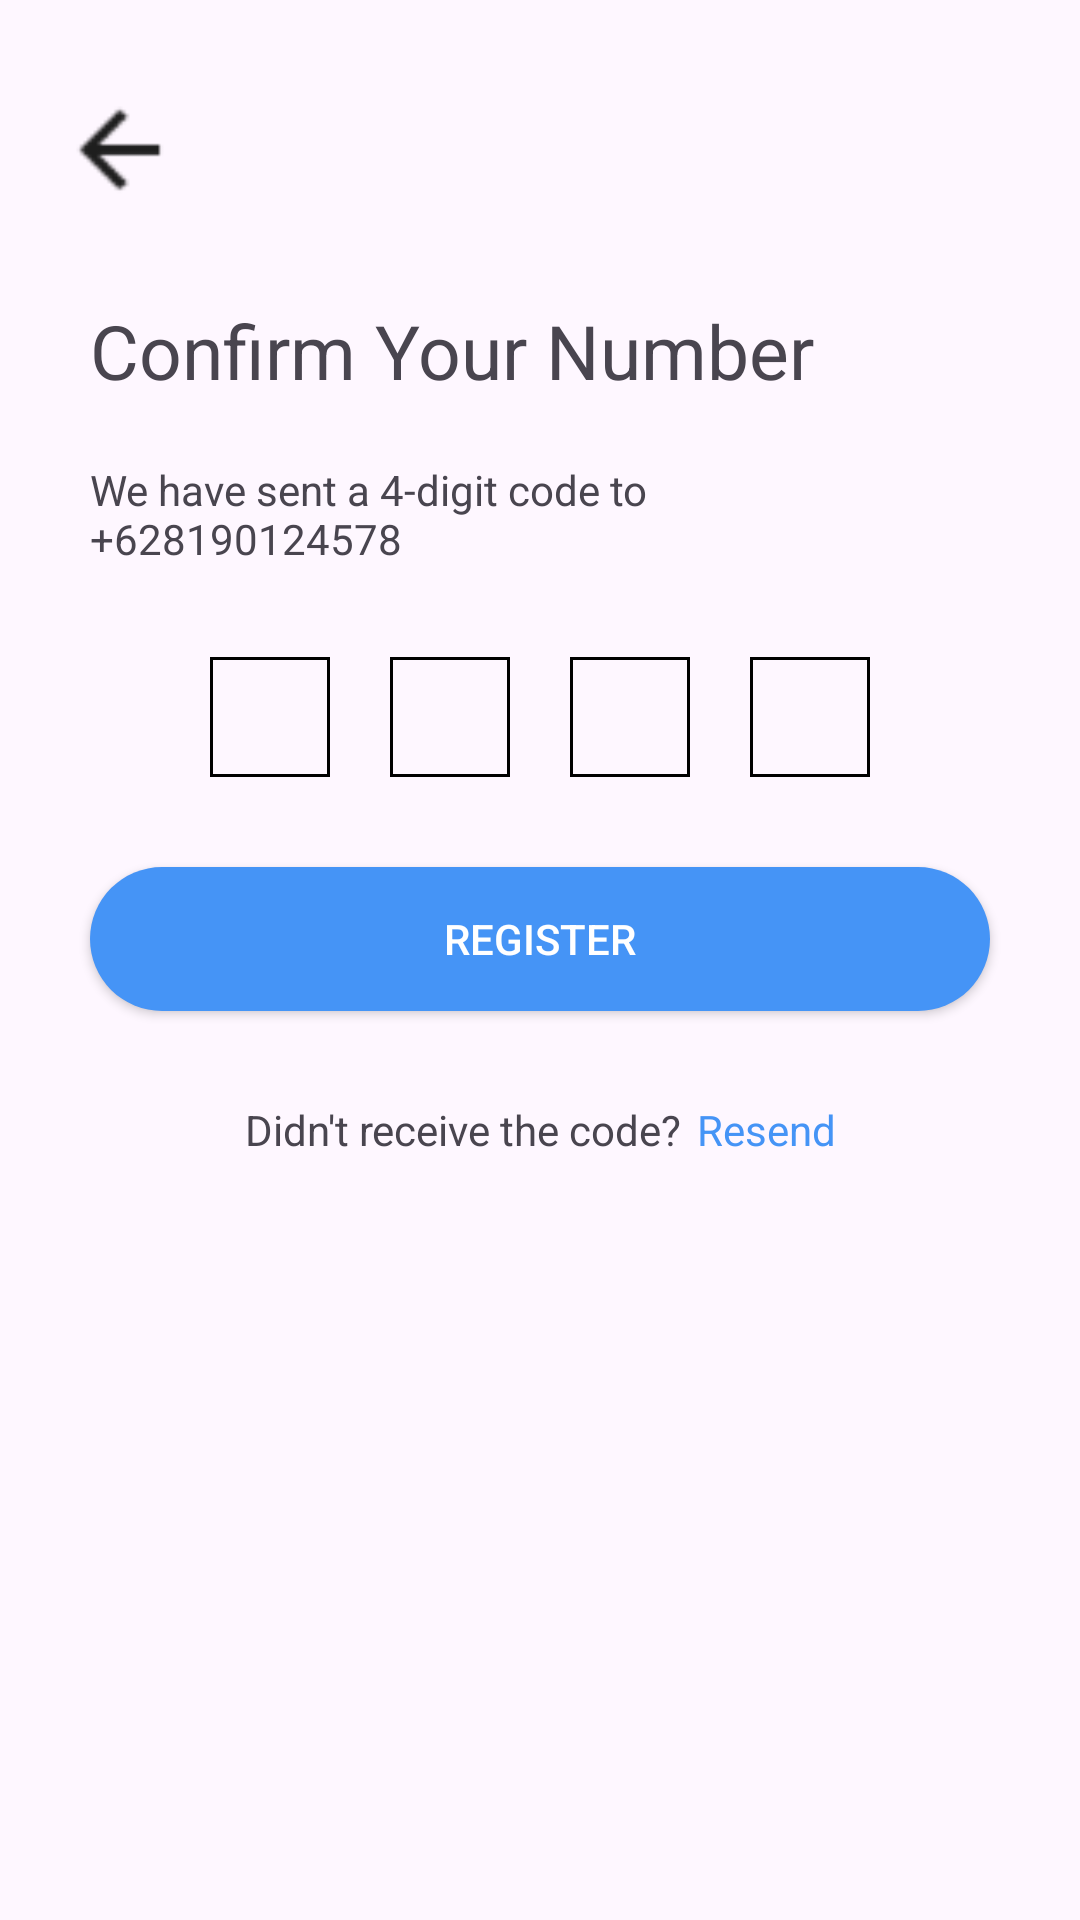

Screen size 1080w x 1920h. Icon name, then its center in pixels as (x,y):
back: (120,150)
